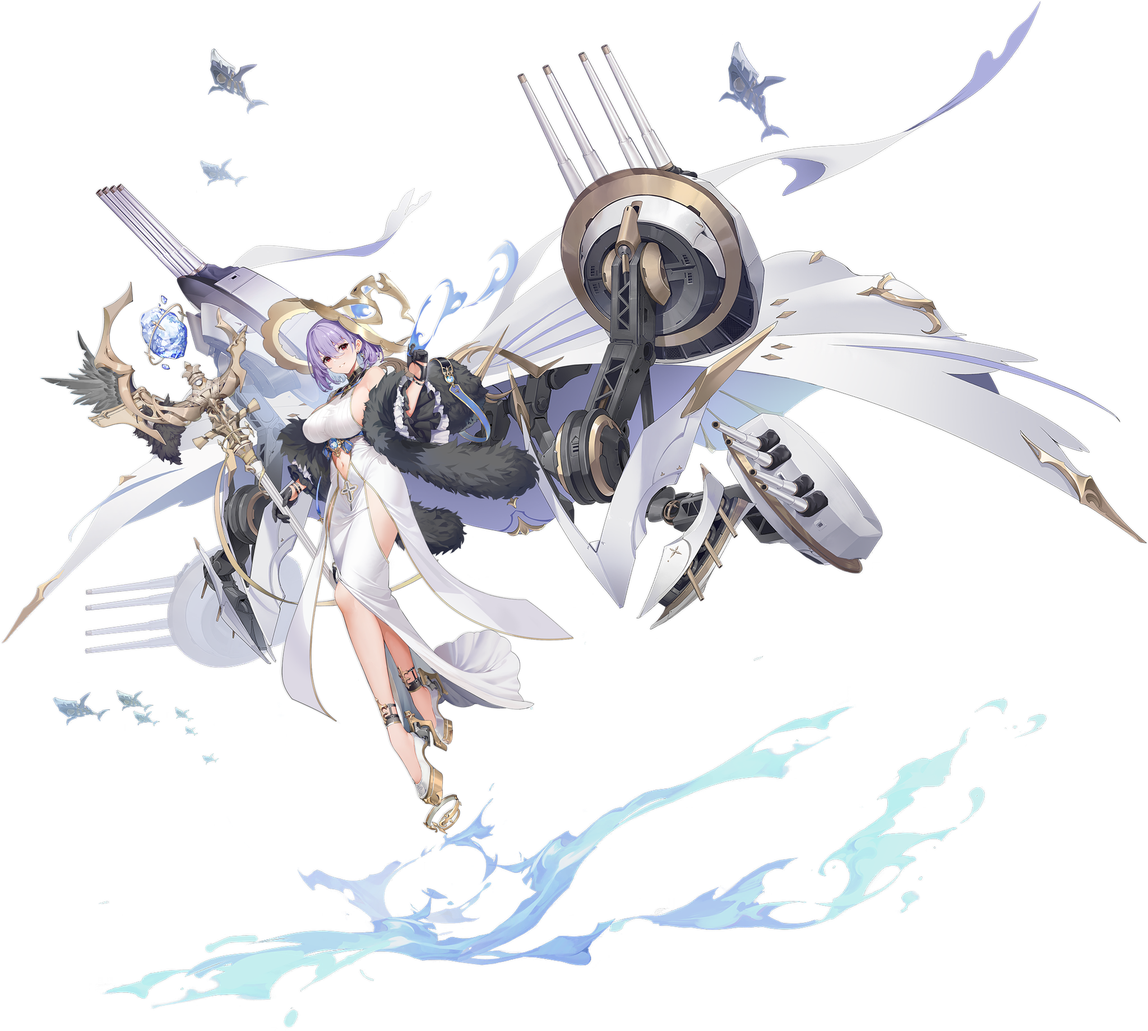person: (240, 251, 558, 923)
